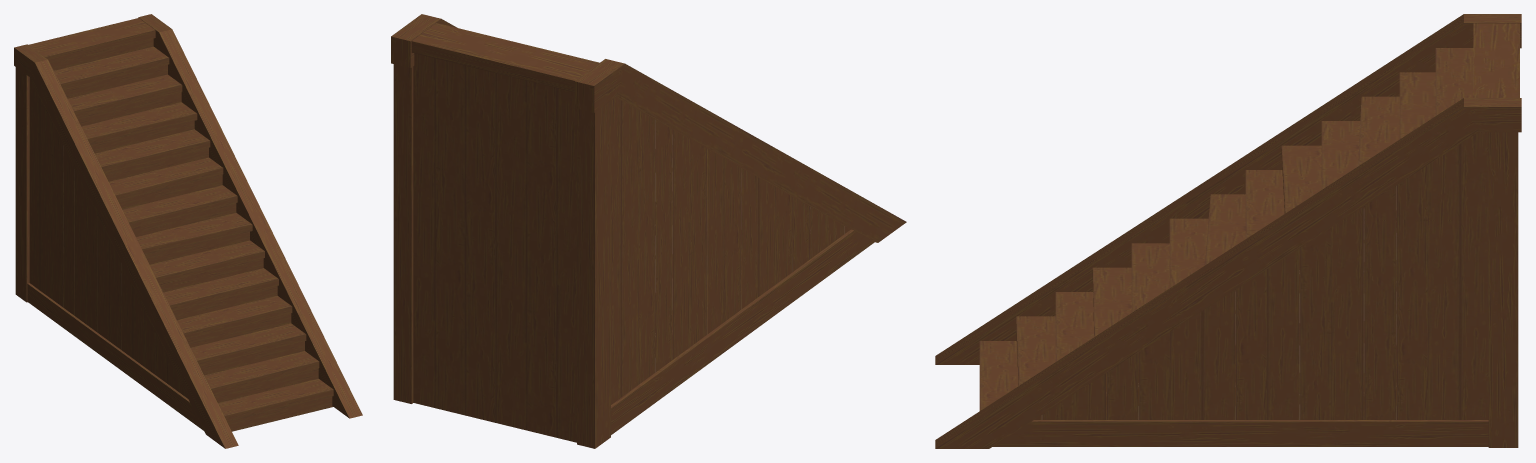
The model's file is Stair_Interior_Solid.glb.
The picture shows the model from 3 angles, left to right: view 1: azimuth 30°, elevation 25°; view 2: azimuth 150°, elevation 25°; view 3: azimuth 270°, elevation 25°; orthographic projection. The views are drawn at different scales.
Visible parts, largest first — view 1: Stair_Interior_Solid; view 2: Stair_Interior_Solid; view 3: Stair_Interior_Solid.
Part boxes in pixels (x1=…): Stair_Interior_Solid: x1=14, y1=14, x2=362, y2=448; Stair_Interior_Solid: x1=391, y1=14, x2=906, y2=448; Stair_Interior_Solid: x1=935, y1=14, x2=1521, y2=448.
Bounding box in the file's own units: 1.77 × 3.05 × 4.71.
1 material, 1 textured.
